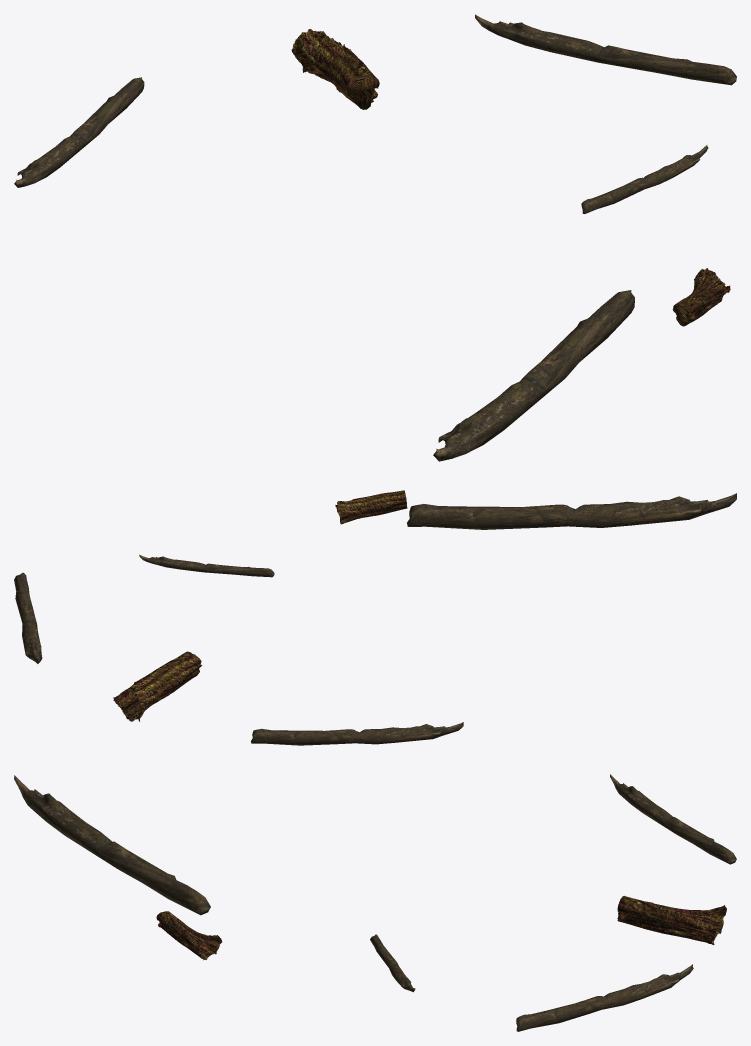
The model's file is broken_trees.glb.
3 renders of one model, top to bottom at view 1: azimuth 30°, elevation 25°; view 2: azimuth 150°, elevation 25°; view 3: azimuth 270°, elevation 25°, orthographic. The views are drawn at different scales.
Parts seen in each view (by area): view 1: Cedar 04.002; view 2: Cedar 04.002; view 3: Cedar 04.002.
Boxes of the visible parts, left/top/right/bottom form: Cedar 04.002: left=14, top=14, right=736, bottom=461; Cedar 04.002: left=14, top=490, right=736, bottom=745; Cedar 04.002: left=14, top=774, right=736, bottom=1031.
Size of the model in its own units: 25.42 by 1.97 by 31.7.
Materials: 2 (2 with a texture image).
